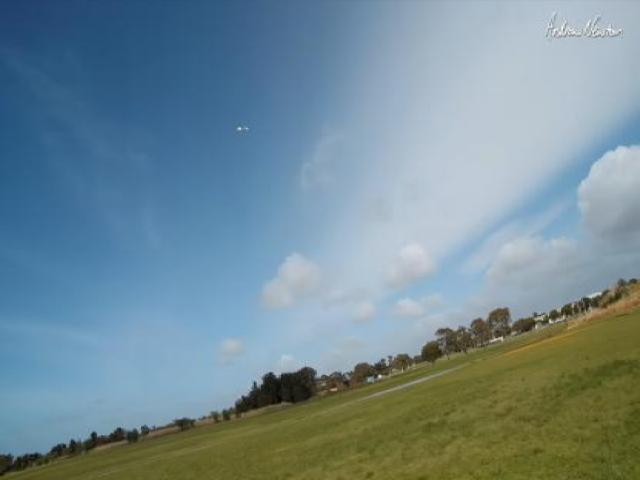uav: (232, 120, 254, 136)
